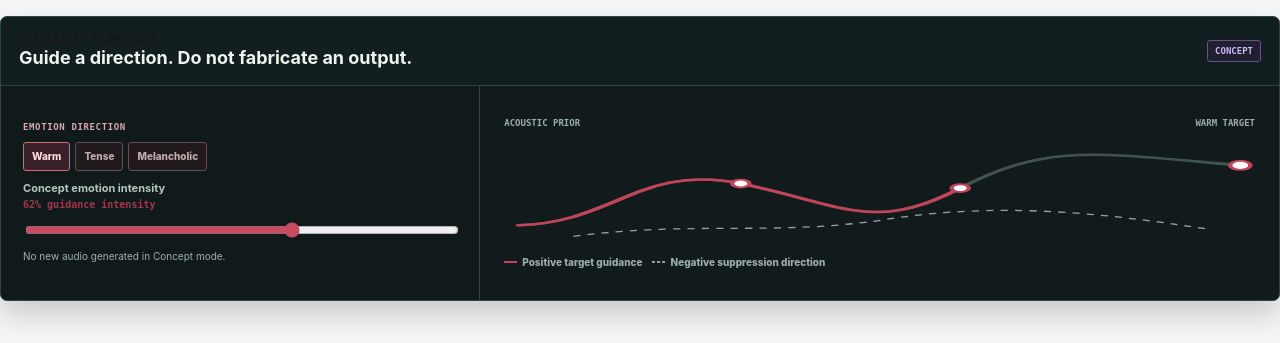
EmoDubber intensity changes a conceptual flow view without generating audio
The image size is (1280, 343).
Expected: the text "62% guidance intensity" is shown, [23, 199, 156, 210]
Set the slider labelled "Concept emotion intensity" to "86" at (393, 230), box [25, 222, 459, 238]
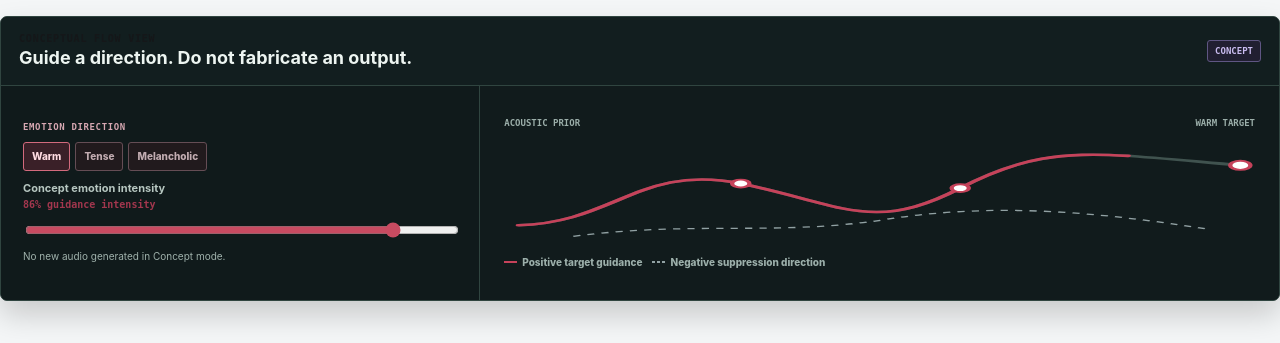
Expected: the text "No new audio generated in Concept mode." is shown, [23, 250, 226, 262]
Now the text "86% guidance intensity" is shown, box [23, 199, 156, 210]
